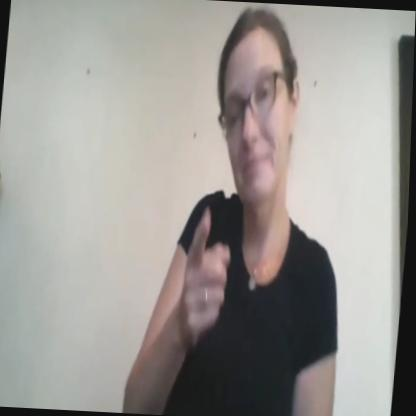HowAreYou: (178, 200, 241, 348)
